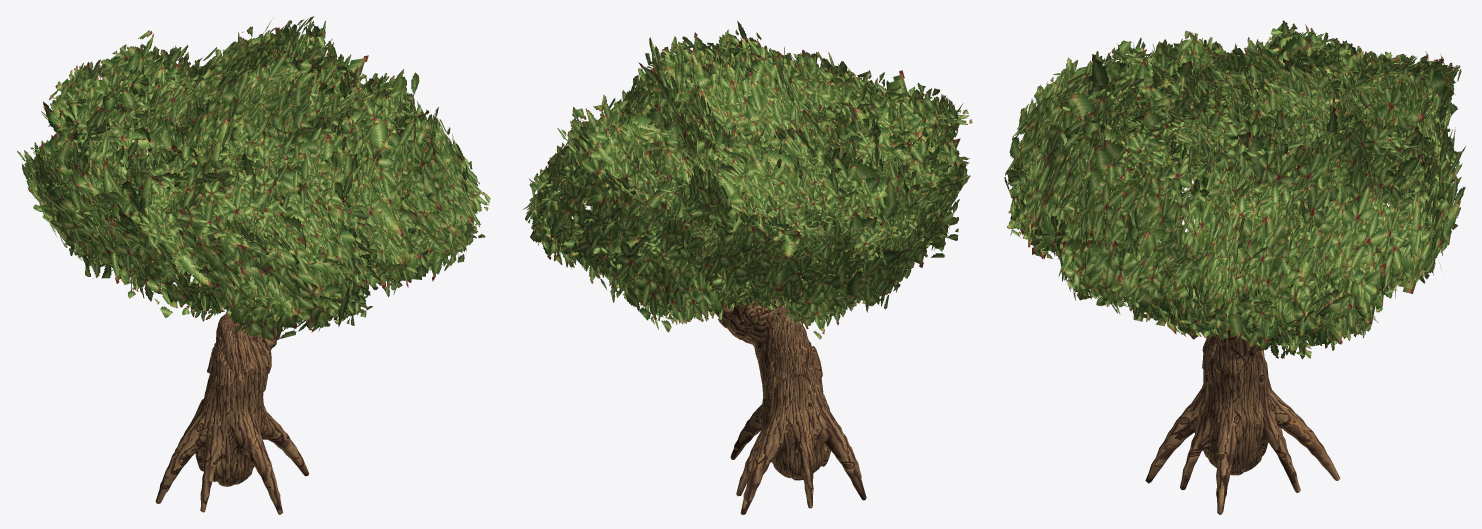
The model's file is macieira_torta_LOD_C.glb.
3 renders of one model, left to right at view 1: azimuth 30°, elevation 25°; view 2: azimuth 150°, elevation 25°; view 3: azimuth 270°, elevation 25°, orthographic. The views are drawn at different scales.
Parts seen in each view (by area): view 1: macieira_inclinada; view 2: macieira_inclinada; view 3: macieira_inclinada.
Boxes of the visible parts, x1,y1,x2,y2 form: macieira_inclinada: (17,16,490,514); macieira_inclinada: (522,21,972,514); macieira_inclinada: (1004,20,1465,514).
Size of the model in its own units: 6.12 by 6.43 by 5.85.
Materials: 2 (2 with a texture image).
